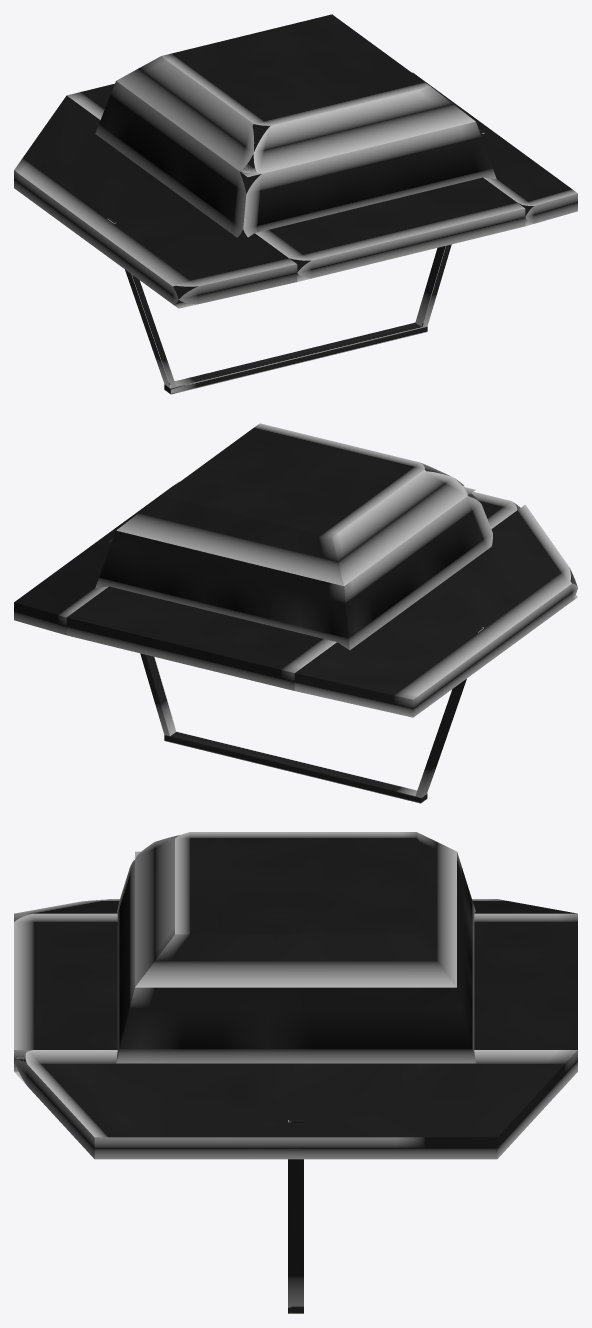
Rendered from marineblackhat.obj.
The picture shows the model from 3 angles, top to bottom: view 1: azimuth 30°, elevation 25°; view 2: azimuth 150°, elevation 25°; view 3: azimuth 270°, elevation 25°; orthographic projection. The views are drawn at different scales.
Parts seen in each view (by area): view 1: headModel3, headModel4, headModel2, headModel0, headModel1, headModel7, headModel5, headModel6; view 2: headModel3, headModel4, headModel2, headModel0, headModel1, headModel7, headModel5, headModel6; view 3: headModel1, headModel3, headModel2, headModel0, headModel6, headModel4.
Part boxes in pixels (x1,y1,x2,y2): headModel3: (116, 14, 475, 176); headModel4: (14, 95, 297, 308); headModel2: (95, 81, 496, 237); headModel0: (67, 83, 525, 281); headModel1: (412, 72, 577, 226); headModel7: (164, 322, 427, 394); headModel5: (107, 218, 176, 388); headModel6: (415, 128, 484, 326); headModel3: (116, 423, 475, 585); headModel4: (294, 504, 577, 717); headModel2: (95, 488, 492, 650); headModel0: (66, 492, 520, 690); headModel1: (14, 481, 179, 635); headModel7: (164, 731, 427, 803); headModel5: (415, 627, 483, 797); headModel6: (107, 537, 175, 736); headModel1: (14, 1050, 577, 1159); headModel3: (135, 832, 456, 987); headModel2: (116, 852, 475, 1063); headModel0: (14, 913, 577, 1071); headModel6: (288, 1120, 303, 1306); headModel4: (14, 899, 576, 921).
Bounding box in the file's own units: 14 × 9.7 × 14.
